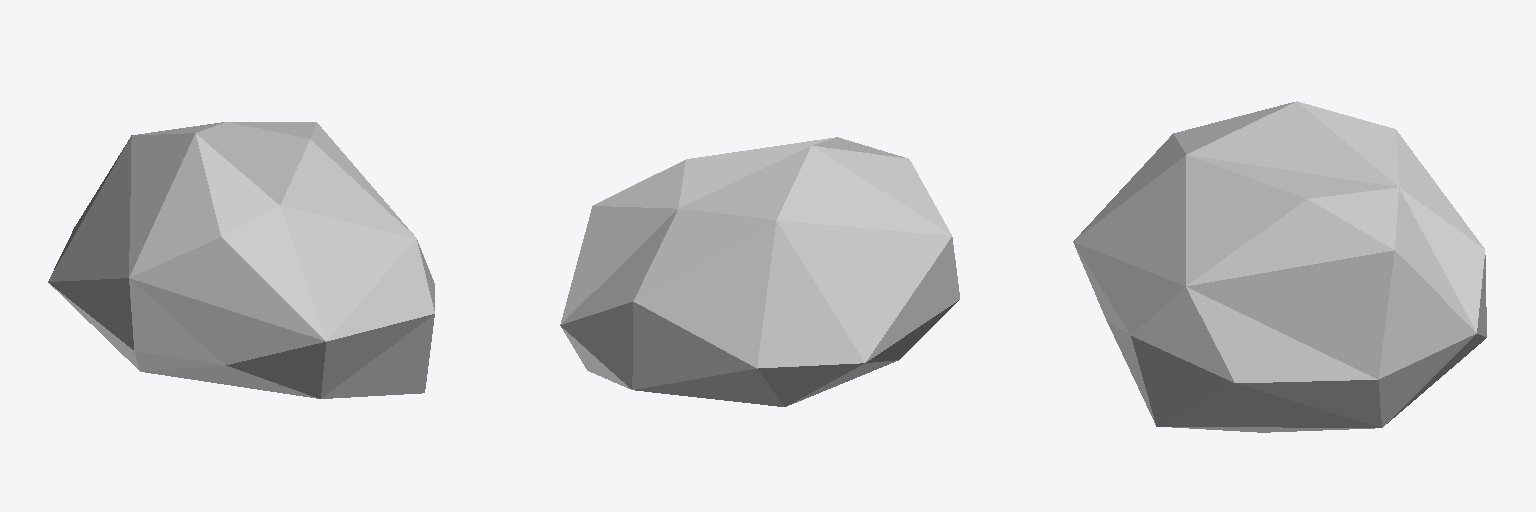
File: plains_rock4.obj
The picture shows the model from 3 angles: view 1: azimuth 30°, elevation 25°; view 2: azimuth 150°, elevation 25°; view 3: azimuth 270°, elevation 25°; orthographic projection.
Size of the model in its own units: 2.72 by 2.14 by 3.11.